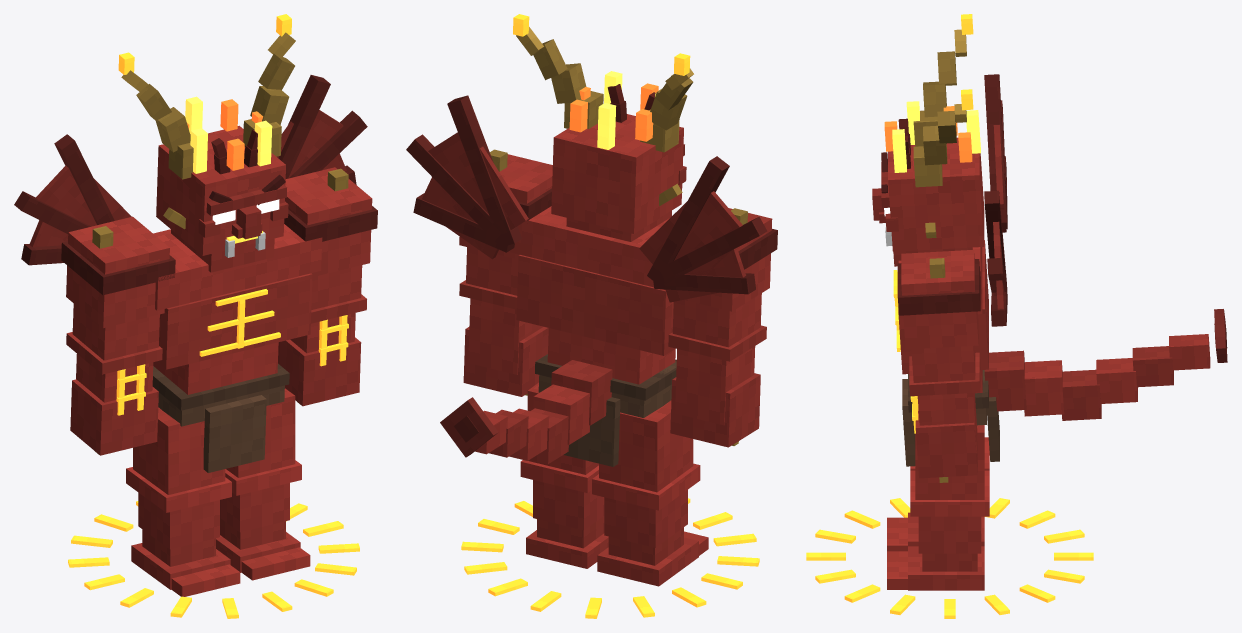
The model's file is demon_base_evo3.glb.
3 views of the same model, side by side, from view 1: azimuth 30°, elevation 25°; view 2: azimuth 150°, elevation 25°; view 3: azimuth 270°, elevation 25° (orthographic). The views are drawn at different scales.
Visible parts, largest first — view 1: Torso, Head, ArmR, ArmL, LegR, LegL, Root; view 2: Torso, Head, ArmR, LegR, ArmL, LegL, Root; view 3: Torso, Head, ArmL, LegL, Root, LegR.
Part boxes in pixels (x1=…): Torso: x1=14, y1=75, x2=367, y2=472; Head: x1=118, y1=14, x2=295, y2=272; ArmR: x1=61, y1=216, x2=175, y2=455; ArmL: x1=278, y1=167, x2=377, y2=406; LegR: x1=126, y1=407, x2=240, y2=596; LegL: x1=216, y1=388, x2=310, y2=580; Root: x1=68, y1=501, x2=359, y2=618; Torso: x1=406, y1=95, x2=767, y2=466; Head: x1=513, y1=14, x2=693, y2=241; ArmR: x1=668, y1=208, x2=777, y2=447; LegR: x1=592, y1=400, x2=708, y2=586; ArmL: x1=459, y1=149, x2=552, y2=396; LegL: x1=520, y1=382, x2=608, y2=568; Root: x1=461, y1=498, x2=759, y2=618; Torso: x1=893, y1=74, x2=1227, y2=466; Head: x1=872, y1=14, x2=984, y2=266; ArmL: x1=897, y1=249, x2=980, y2=482; LegL: x1=887, y1=425, x2=989, y2=590; Root: x1=806, y1=498, x2=1093, y2=618; LegR: x1=887, y1=437, x2=989, y2=551.
Size of the model in its own units: 1.58 by 2.25 by 1.7.
32 materials, 32 textured.
